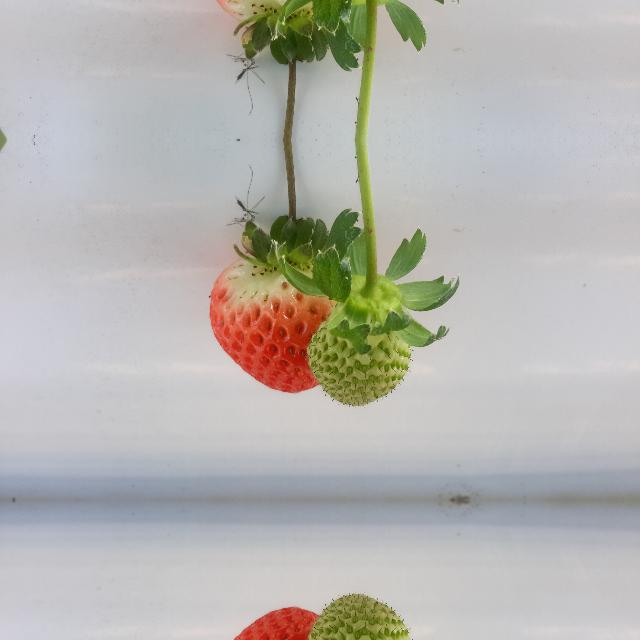Health_100: (208, 249, 346, 399), (307, 307, 411, 405), (208, 601, 345, 640), (307, 595, 411, 640), (208, 0, 345, 31)
